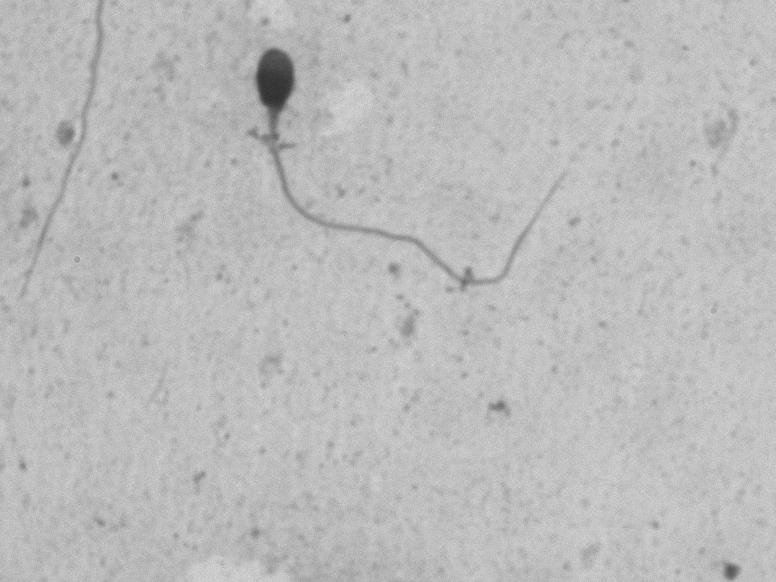Normal: (218, 25, 614, 292)
